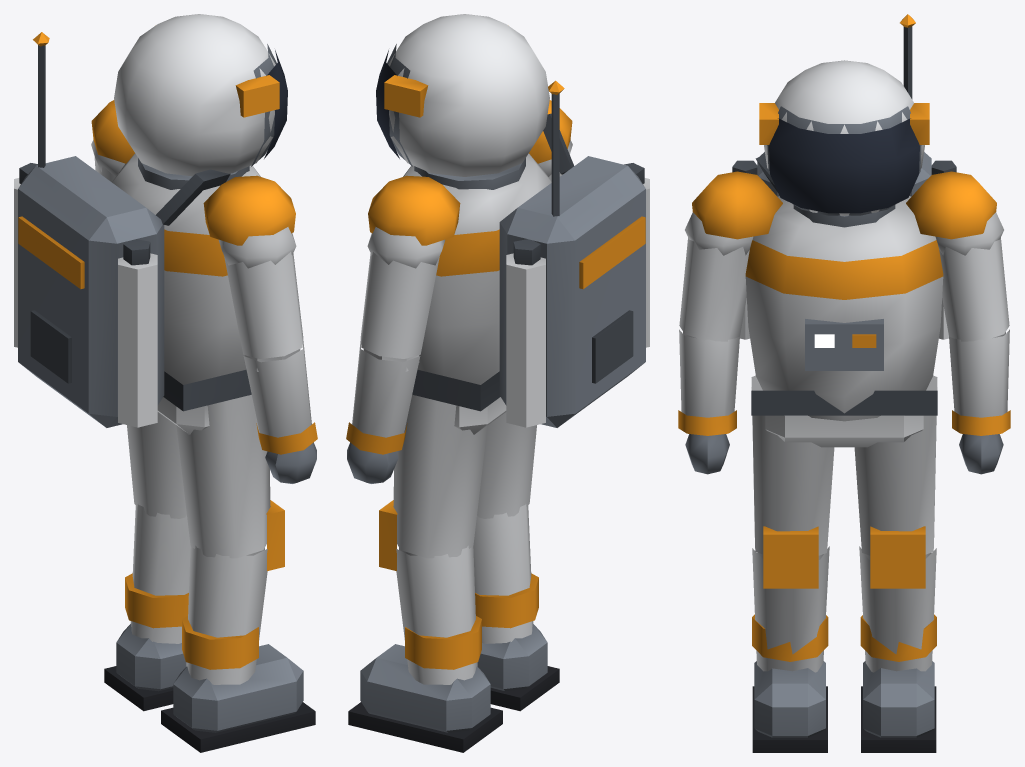
File: colonist.glb
3 views of the same model, side by side, from view 1: azimuth 30°, elevation 25°; view 2: azimuth 150°, elevation 25°; view 3: azimuth 270°, elevation 25° (orthographic). The views are drawn at different scales.
Parts seen in each view (by area): view 1: Body, LegR, LegL, ArmR, ArmL; view 2: Body, LegL, LegR, ArmL; view 3: Body, LegL, LegR, ArmL, ArmR.
Boxes of the visible parts, left/top/right/bottom form: Body: left=14, top=14, right=295, bottom=434; LegR: left=161, top=395, right=315, bottom=752; LegL: left=104, top=412, right=190, bottom=711; ArmR: left=218, top=227, right=317, bottom=483; ArmL: left=91, top=140, right=124, bottom=182; Body: left=368, top=14, right=649, bottom=434; LegL: left=348, top=395, right=502, bottom=752; LegR: left=473, top=412, right=559, bottom=711; ArmL: left=346, top=227, right=445, bottom=483; Body: left=692, top=14, right=996, bottom=447; LegL: left=854, top=375, right=937, bottom=752; LegR: left=751, top=375, right=834, bottom=752; ArmL: left=935, top=212, right=1010, bottom=474; ArmR: left=678, top=212, right=753, bottom=474.
Bounding box in the file's own units: 0.6267 × 1.82 × 0.838.
